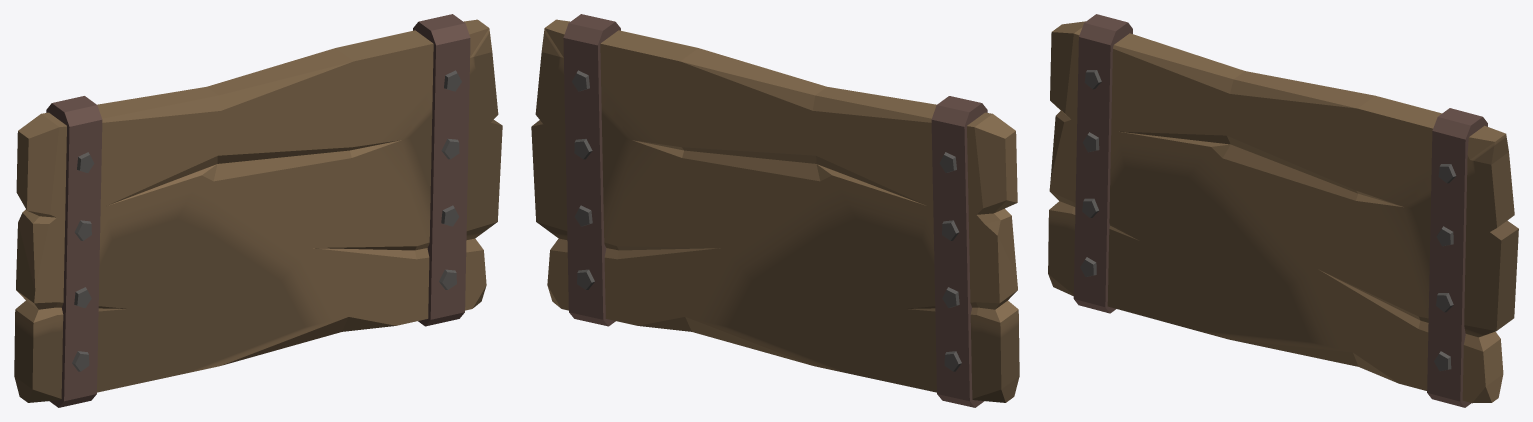
Rendered from SM_Prop_Sign_01.fbx.
The picture shows the model from 3 angles, left to right: view 1: azimuth 30°, elevation 25°; view 2: azimuth 150°, elevation 25°; view 3: azimuth 330°, elevation 25°; orthographic projection. The views are drawn at different scales.
Visible parts, largest first — view 1: SM_Prop_Sign_01; view 2: SM_Prop_Sign_01; view 3: SM_Prop_Sign_01.
Part boxes in pixels (left/top/right/bottom): SM_Prop_Sign_01: left=14, top=14, right=502, bottom=407; SM_Prop_Sign_01: left=531, top=14, right=1019, bottom=407; SM_Prop_Sign_01: left=1048, top=14, right=1518, bottom=407.
Size of the model in its own units: 96.96 by 59.47 by 9.86.
